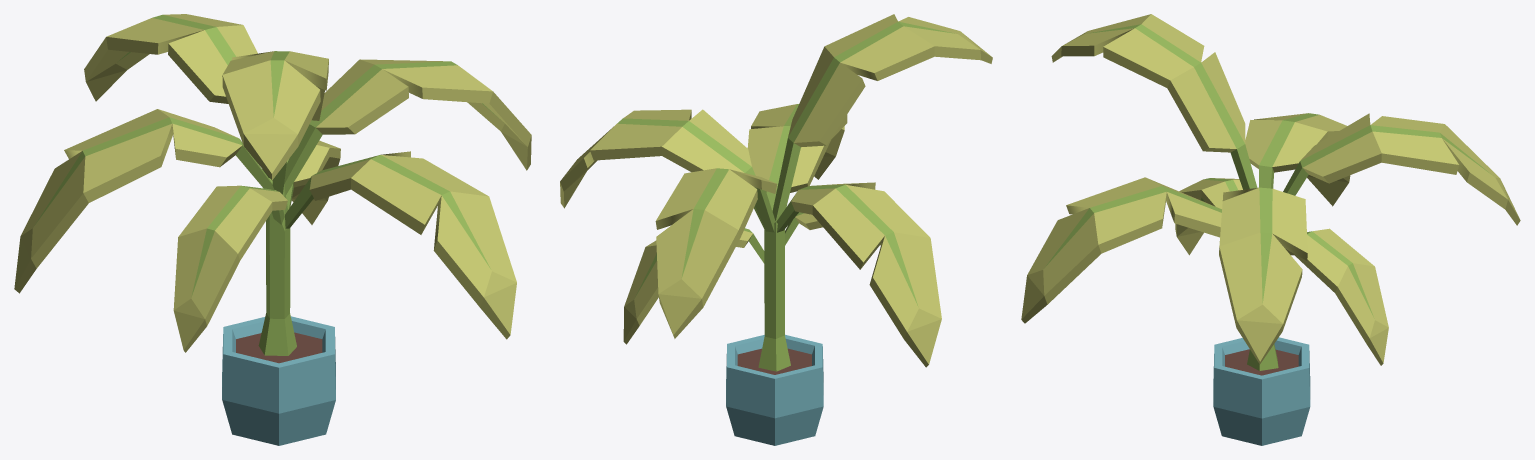
The model's file is Plant_02.FBX.
3 renders of one model, left to right at view 1: azimuth 30°, elevation 25°; view 2: azimuth 150°, elevation 25°; view 3: azimuth 270°, elevation 25°, orthographic. The views are drawn at different scales.
Visible parts, largest first — view 1: Plant_02; view 2: Plant_02; view 3: Plant_02.
Boxes of the visible parts, x1,y1,x2,y2 form: Plant_02: (14,14,531,445); Plant_02: (560,14,992,445); Plant_02: (1021,14,1520,445).
Bounding box in the file's own units: 152 × 133 × 163.
